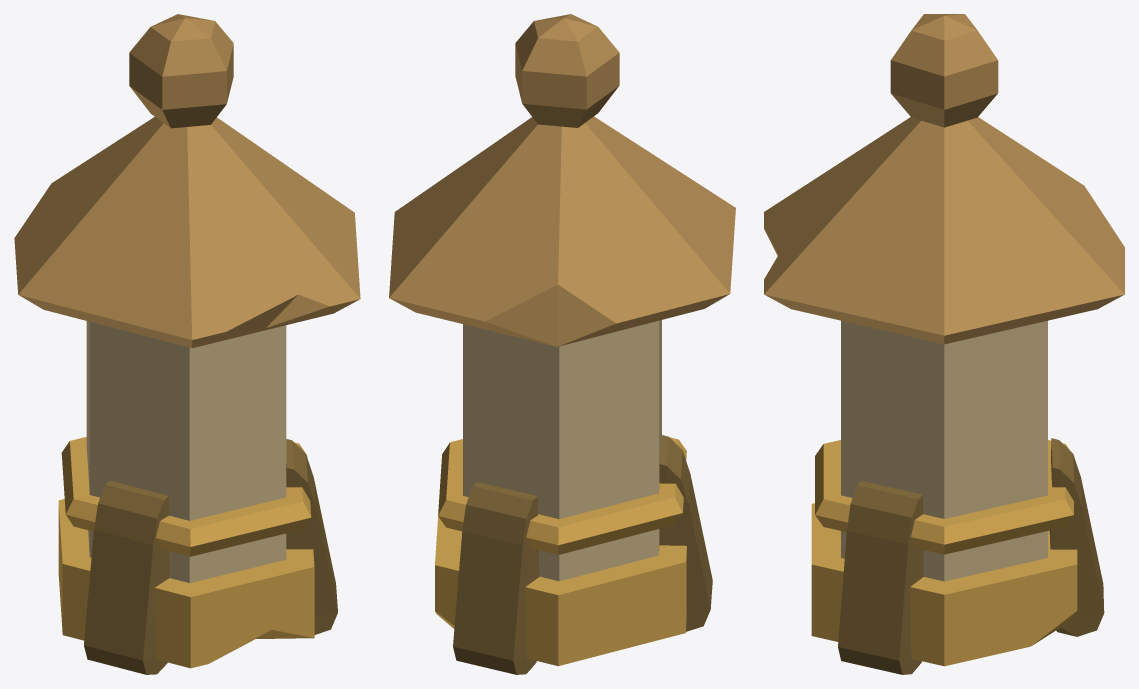
The model's file is SM_Prop_Lantern_01.fbx.
The picture shows the model from 3 angles, left to right: view 1: azimuth 30°, elevation 25°; view 2: azimuth 150°, elevation 25°; view 3: azimuth 270°, elevation 25°; orthographic projection.
Visible parts, largest first — view 1: SM_Prop_Lantern_01, SM_Prop_Lantern_Glass_01; view 2: SM_Prop_Lantern_01, SM_Prop_Lantern_Glass_01; view 3: SM_Prop_Lantern_01, SM_Prop_Lantern_Glass_01.
Boxes of the visible parts, x1,y1,x2,y2 form: SM_Prop_Lantern_01: (14, 14, 360, 674); SM_Prop_Lantern_Glass_01: (86, 321, 286, 583); SM_Prop_Lantern_01: (389, 14, 735, 674); SM_Prop_Lantern_Glass_01: (463, 320, 661, 581); SM_Prop_Lantern_01: (764, 14, 1124, 674); SM_Prop_Lantern_Glass_01: (841, 320, 1047, 581).
Bounding box in the file's own units: 37.85 × 64.82 × 35.01.
